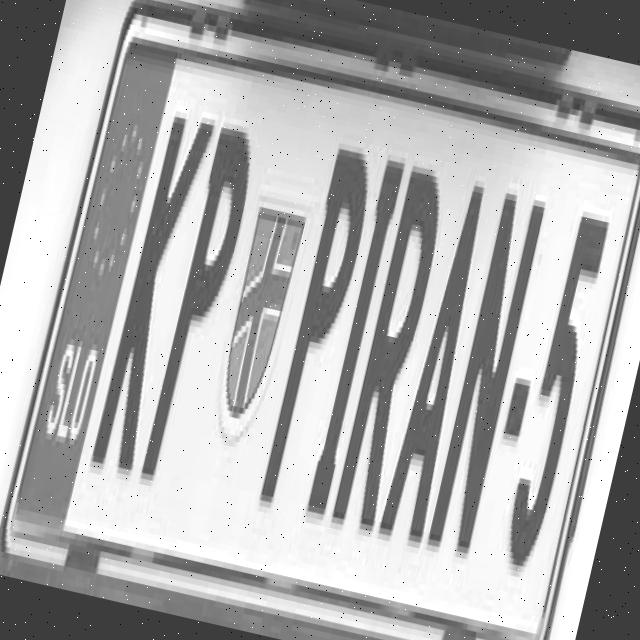EU: (5, 1, 640, 640)
Slovenie: (18, 50, 172, 528)
